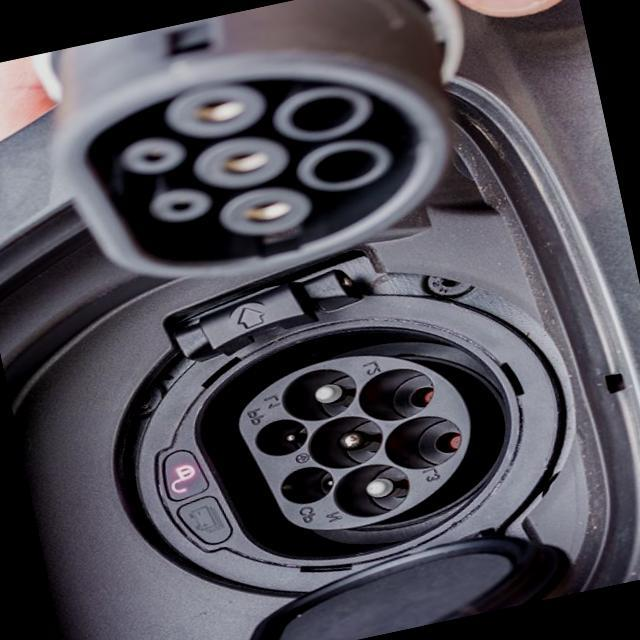Type 2: (190, 336, 518, 550)
